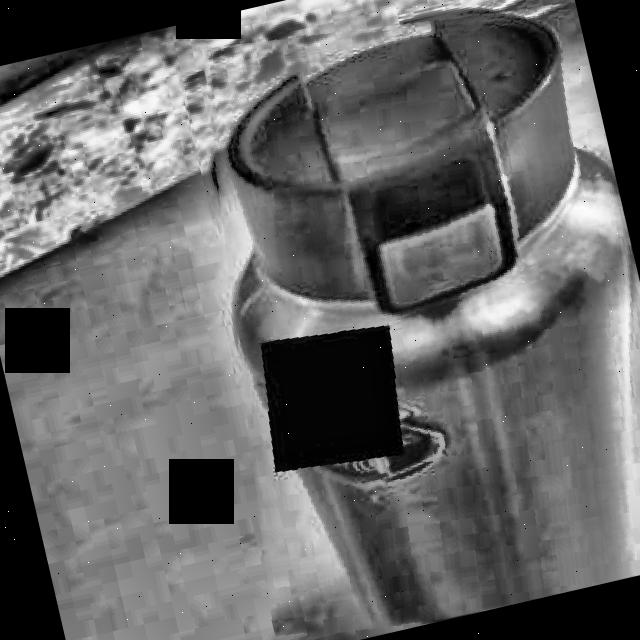bottle: (226, 14, 633, 628)
